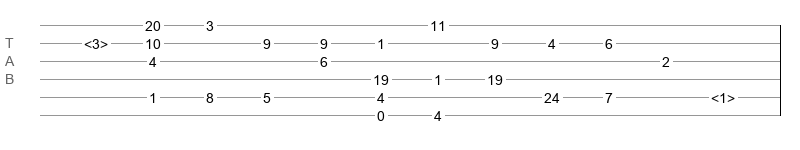0: (377, 108, 385, 118)
1: (149, 90, 157, 100), (377, 36, 385, 46), (434, 72, 442, 82)
10: (145, 36, 161, 46)
11: (430, 18, 446, 28)
19: (373, 72, 389, 82), (487, 72, 503, 82)
2: (662, 54, 670, 64)
20: (145, 18, 161, 28)
24: (544, 90, 560, 100)
3: (206, 18, 214, 28)
4: (149, 54, 157, 64), (377, 90, 385, 100), (434, 108, 442, 118), (548, 36, 556, 46)
5: (263, 90, 271, 100)
6: (320, 54, 328, 64), (605, 36, 613, 46)
7: (605, 90, 613, 100)
8: (206, 90, 214, 100)
9: (263, 36, 271, 46), (320, 36, 328, 46), (491, 36, 499, 46)
harmonic: (84, 36, 108, 46), (711, 90, 735, 100)
